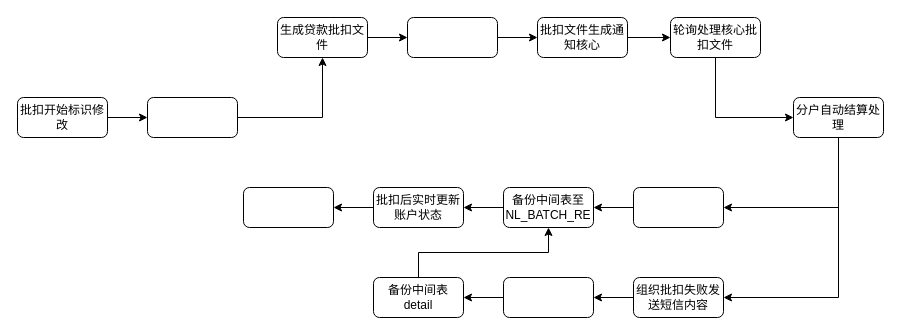
The diagram is 901 pixels wide and 335 high, and some of its shapes have lost their labels. The shapes that lost their labels are listed below. From the top down, each one's centre as x and y in pixels, then its label:
At point 452,37: "上传文件至sftp服务器".
At point 192,117: "分户自动结算处理前准备".
At point 288,207: "批扣结束修改标识".
At point 678,207: "批扣全局流水号入库".
At point 548,297: "组织批扣发送短信内容".
